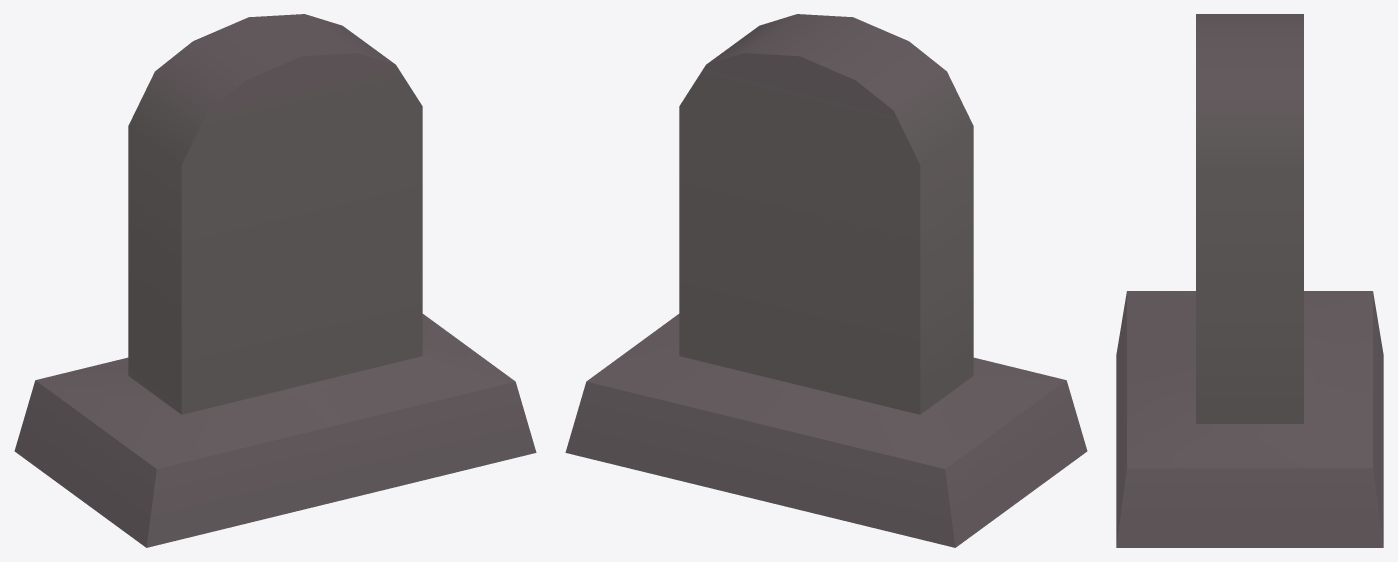
Rendered from village_town_tombstone_1.glb.
The picture shows the model from 3 angles, left to right: view 1: azimuth 30°, elevation 25°; view 2: azimuth 150°, elevation 25°; view 3: azimuth 270°, elevation 25°; orthographic projection.
Parts seen in each view (by area): view 1: Tombstone_1.001_Material.005_0; view 2: Tombstone_1.001_Material.005_0; view 3: Tombstone_1.001_Material.005_0.
Boxes of the visible parts, x1,y1,x2,y2 form: Tombstone_1.001_Material.005_0: (14, 14, 536, 547); Tombstone_1.001_Material.005_0: (565, 14, 1087, 547); Tombstone_1.001_Material.005_0: (1116, 14, 1383, 547).
Size of the model in its own units: 1.06 by 1.08 by 0.6215.
Materials: 1 (1 with a texture image).
